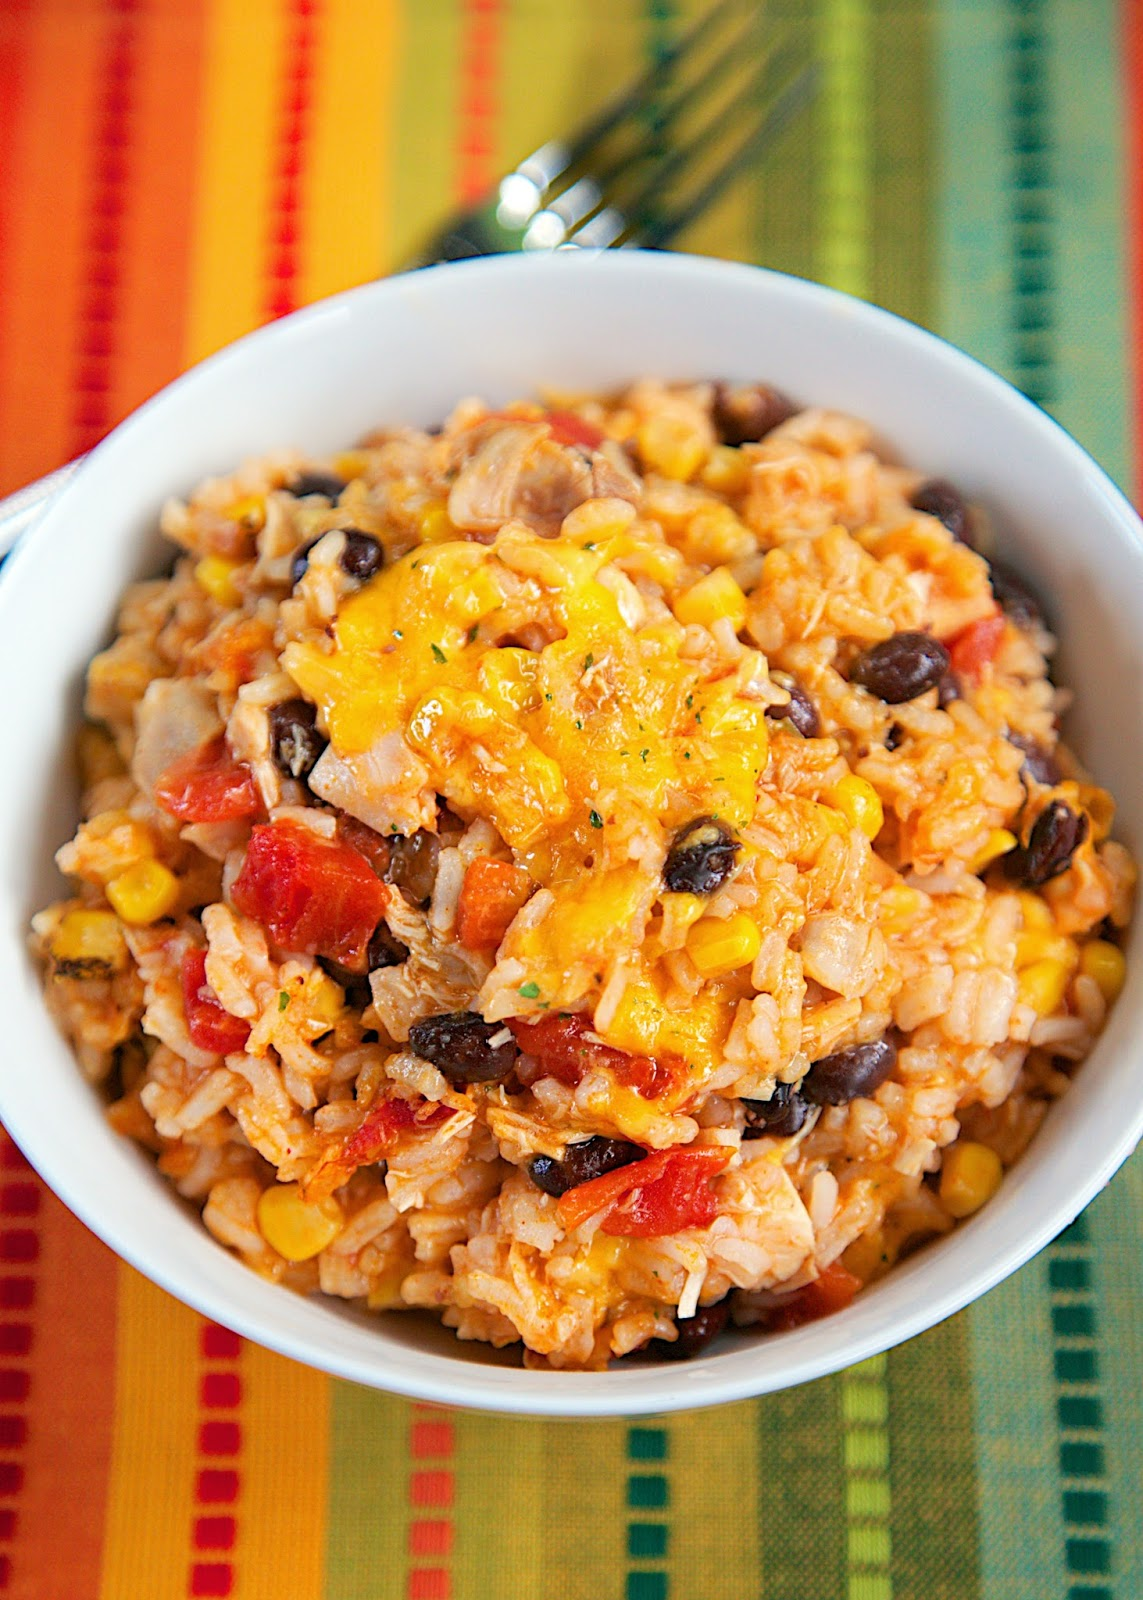plain rice: (152, 428, 1047, 1283)
